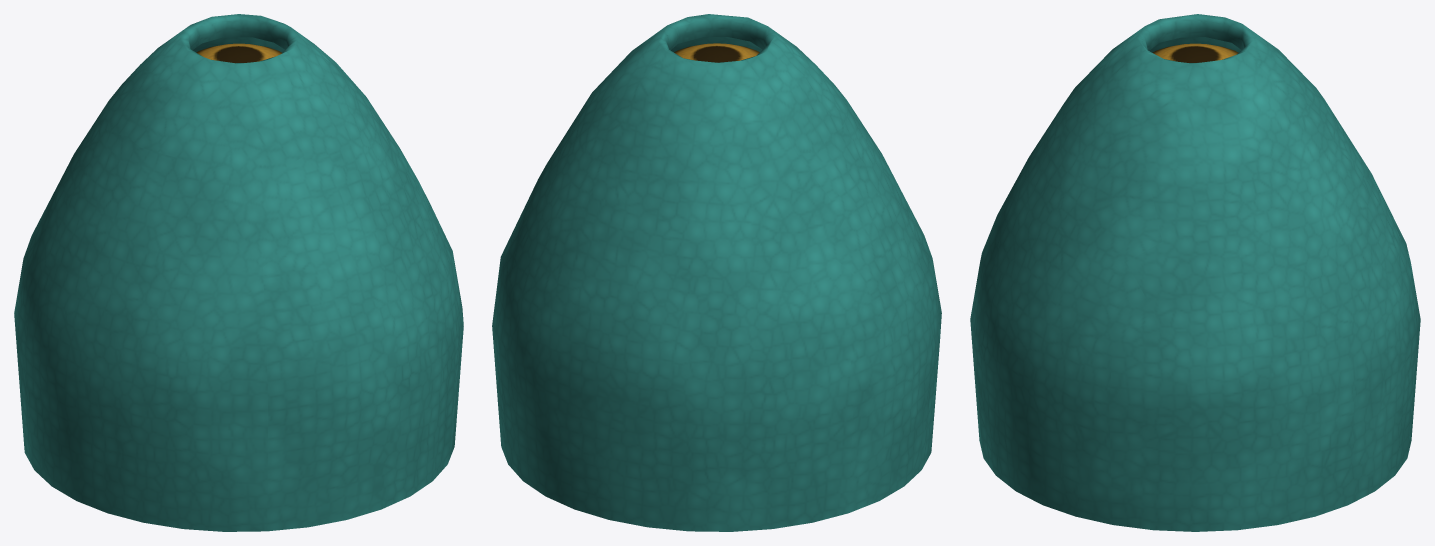
File: cpart_eye_turret.glb
3 views of the same model, side by side, from view 1: azimuth 30°, elevation 25°; view 2: azimuth 150°, elevation 25°; view 3: azimuth 270°, elevation 25° (orthographic).
Visible parts, largest first — view 1: EyeTurretCone, EyeTurret; view 2: EyeTurretCone, EyeTurret; view 3: EyeTurretCone, EyeTurret.
Boxes of the visible parts, bbox=[...] form: EyeTurretCone: bbox=[14, 14, 463, 531]; EyeTurret: bbox=[196, 43, 281, 63]; EyeTurretCone: bbox=[492, 14, 941, 531]; EyeTurret: bbox=[674, 43, 759, 62]; EyeTurretCone: bbox=[970, 14, 1420, 531]; EyeTurret: bbox=[1152, 43, 1238, 62].
Bounding box in the file's own units: 0.0844 × 0.0831 × 0.0844.
2 materials, 2 textured.
